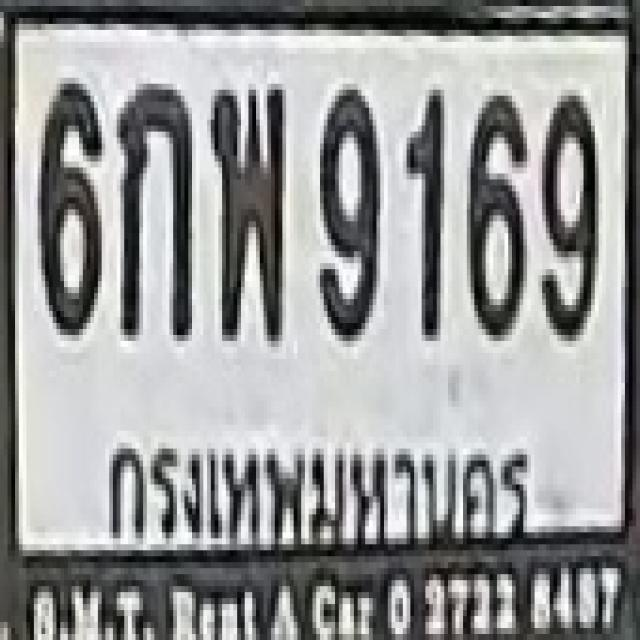1: (403, 87, 440, 338)
6: (34, 78, 98, 329), (467, 90, 523, 335)
9: (316, 84, 376, 335), (538, 90, 595, 335)
A01: (115, 78, 190, 335)
A30: (207, 81, 282, 338)
BKK: (93, 431, 538, 549)
